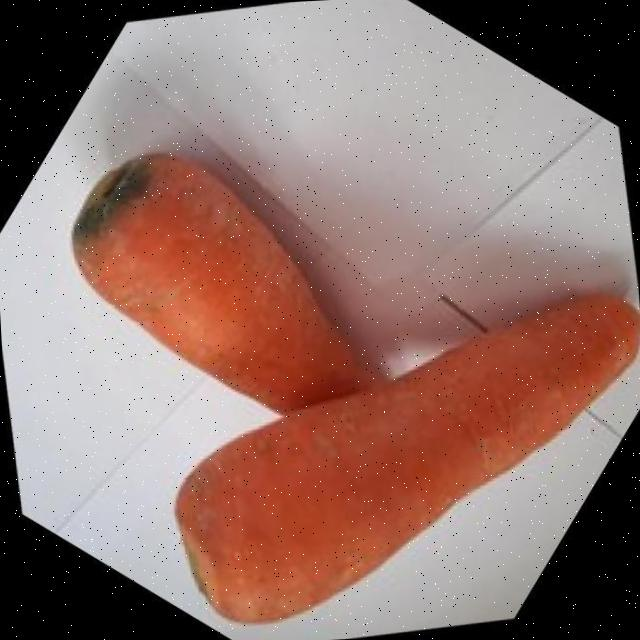carrot: (175, 296, 640, 622), (72, 155, 360, 412)
